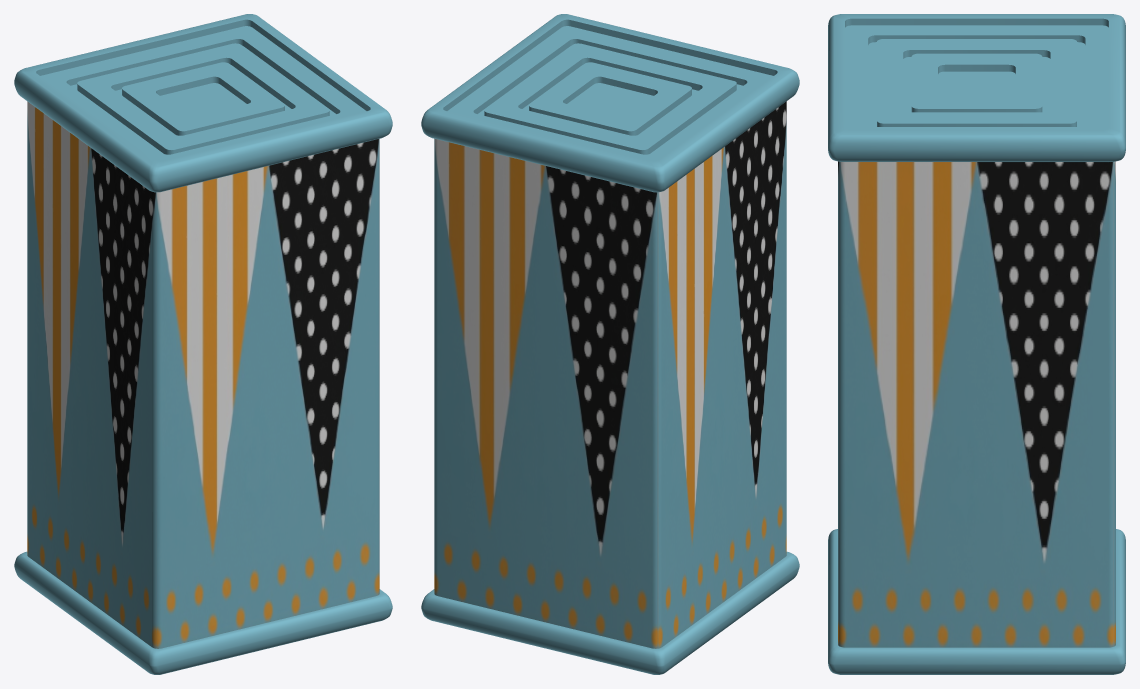
File: CarnivalTinBox(2x1)(new).fbx
The picture shows the model from 3 angles, left to right: view 1: azimuth 30°, elevation 25°; view 2: azimuth 150°, elevation 25°; view 3: azimuth 270°, elevation 25°; orthographic projection. The views are drawn at different scales.
Visible parts, largest first — view 1: Cube; view 2: Cube; view 3: Cube.
Part boxes in pixels (x1,y1,x2,y2): Cube: (14, 14, 392, 674); Cube: (421, 14, 799, 674); Cube: (828, 14, 1125, 674).
Size of the model in its own units: 2 by 4 by 2.
Materials: 2 (2 with a texture image).
